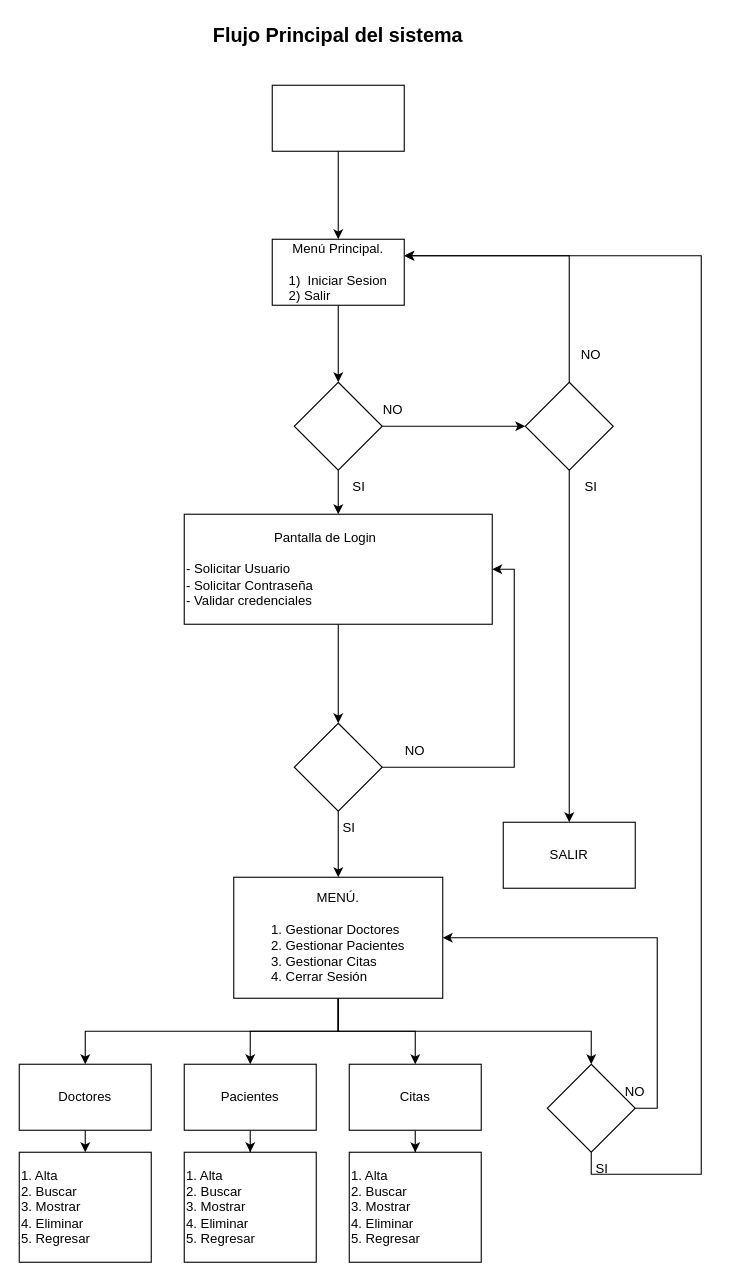
Some shapes in this 729 by 1282 pixel diagram are drawn without their labels. Here are the shapes that lost their labels. From the top down, the box of each, then its label:
(271, 84, 404, 151): INICIO
(293, 381, 382, 470): opción 1?
(524, 381, 613, 470): Opción 2?
(293, 722, 382, 811): Credenciales correctas?
(546, 1063, 635, 1152): Cerrar sesion?
